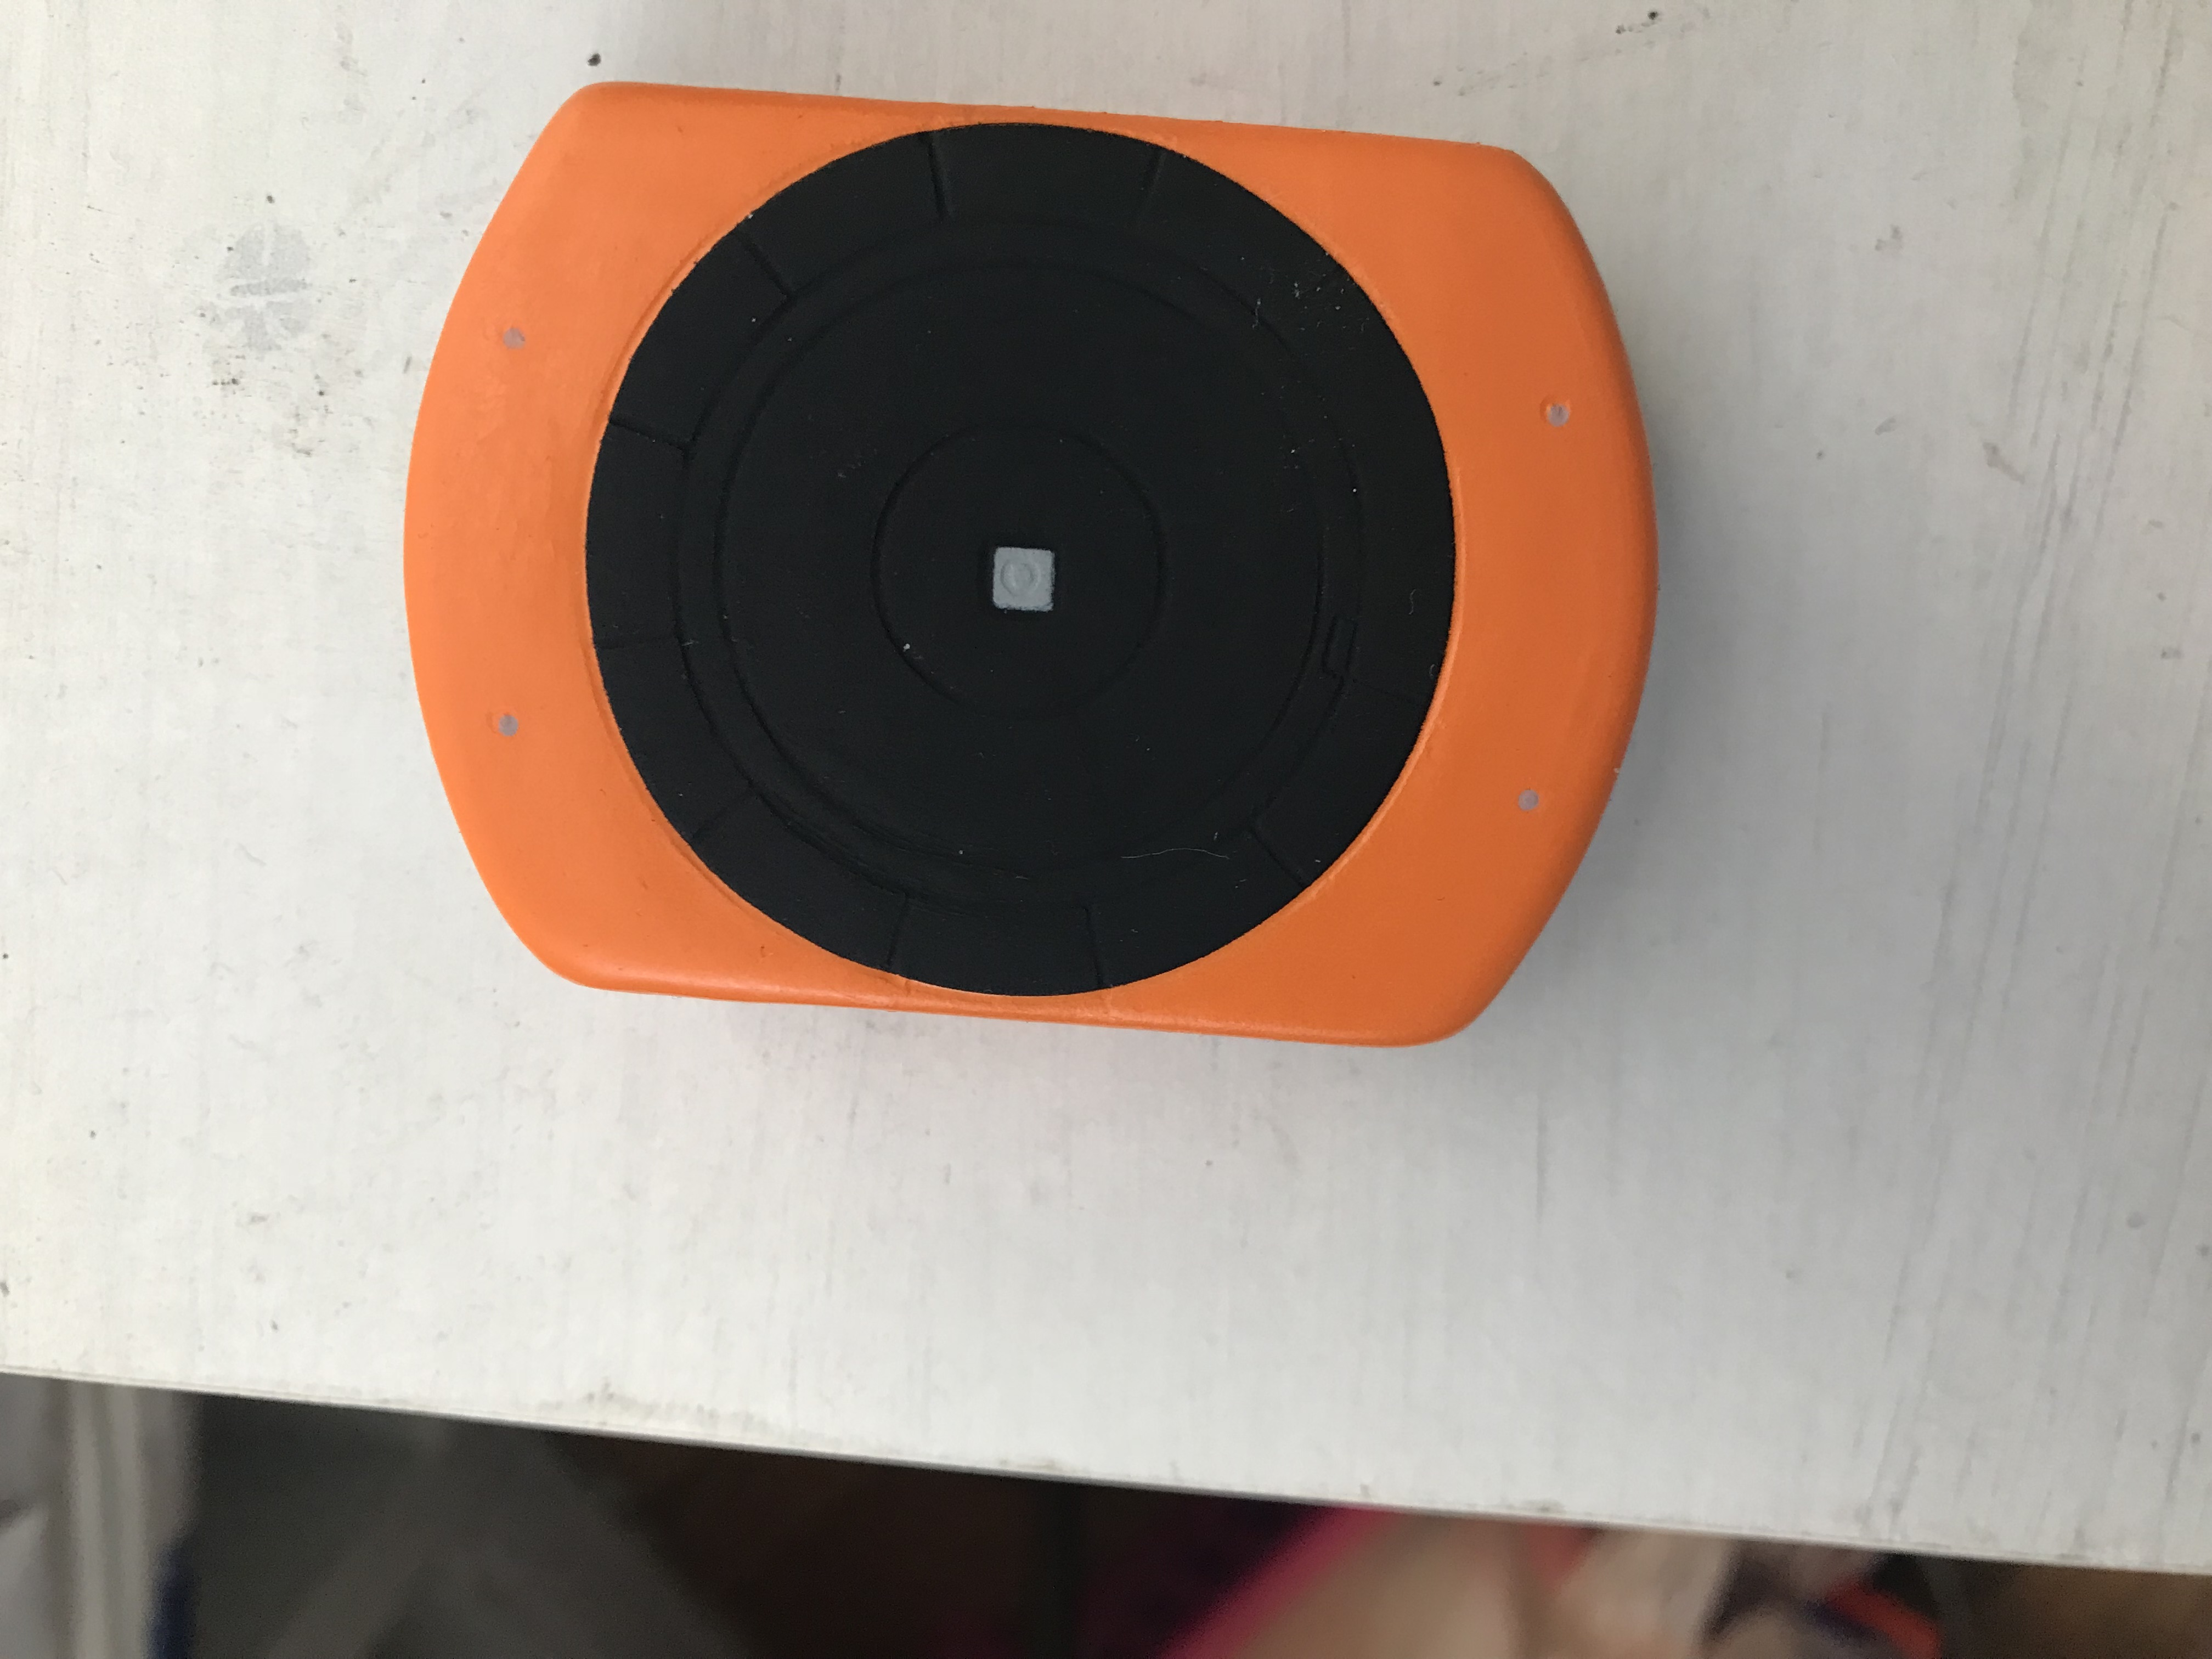amazon_bot: (380, 42, 1676, 1077)
